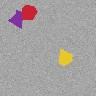hold: (9, 10, 22, 28), (22, 5, 37, 19)
volume: (59, 50, 72, 65)
